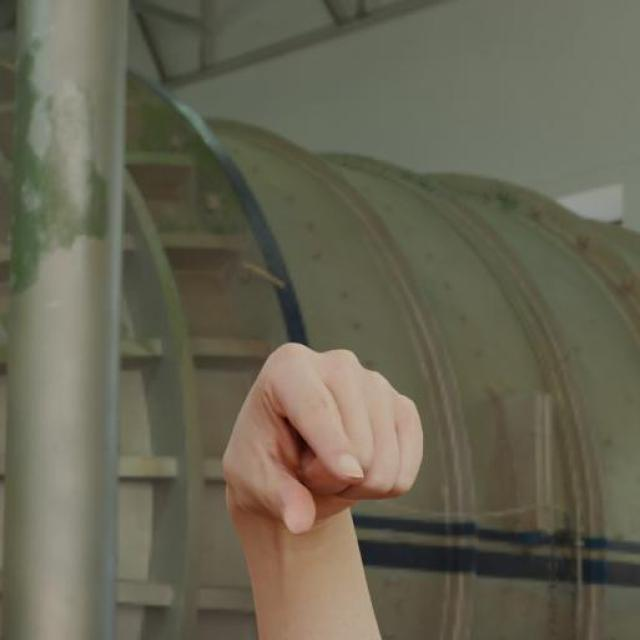Q: (219, 340, 427, 538)
